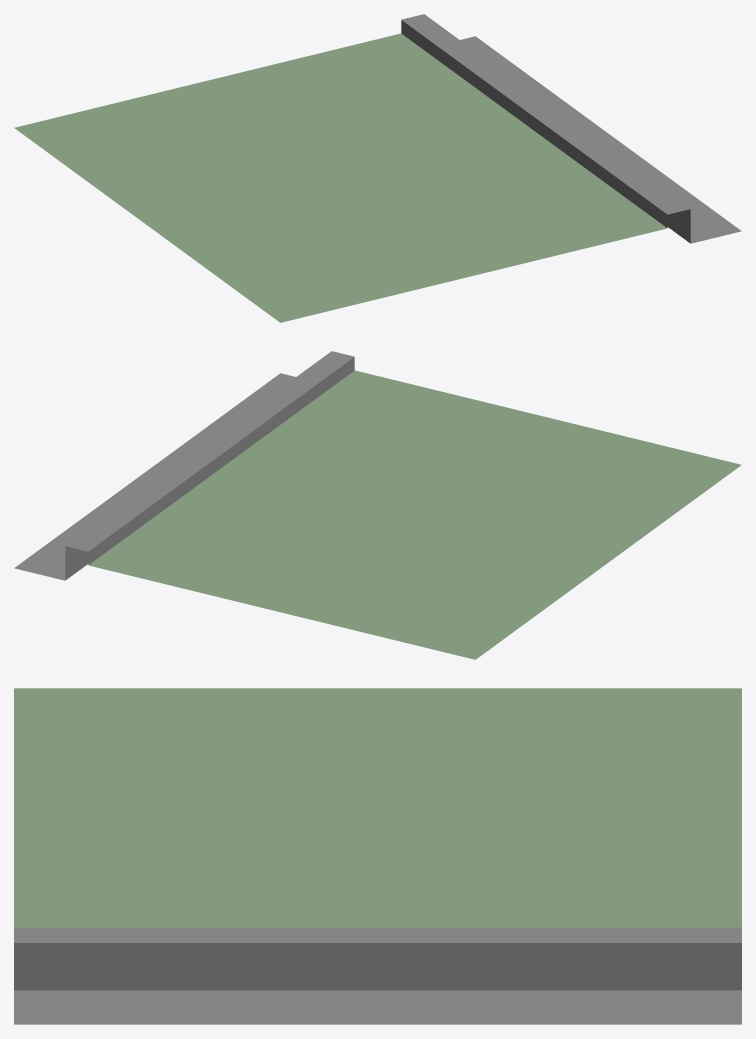
The model's file is park_edge_mesh.fbx.
3 views of the same model, one above another, from view 1: azimuth 30°, elevation 25°; view 2: azimuth 150°, elevation 25°; view 3: azimuth 270°, elevation 25° (orthographic). The views are drawn at different scales.
Parts seen in each view (by area): view 1: park_edge_mesh; view 2: park_edge_mesh; view 3: park_edge_mesh.
Boxes of the visible parts, x1,y1,x2,y2 form: park_edge_mesh: [14, 14, 741, 322]; park_edge_mesh: [14, 351, 741, 659]; park_edge_mesh: [14, 688, 741, 1024].
Size of the model in its own units: 1 by 0.0718 by 1.
